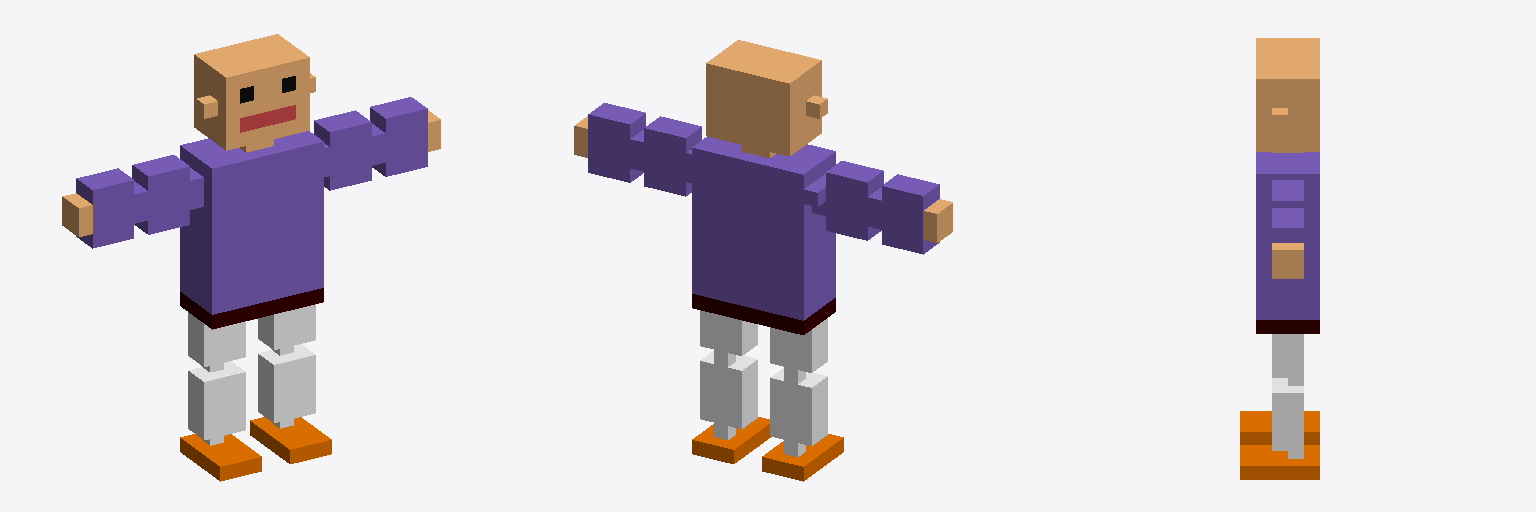
3 renders of one model, left to right at view 1: azimuth 30°, elevation 25°; view 2: azimuth 150°, elevation 25°; view 3: azimuth 270°, elevation 25°, orthographic.
Parts seen in each view (by area): view 1: character3; view 2: character3; view 3: character3.
Part boxes in pixels (left/top/right/bottom): character3: left=62, top=34, right=440, bottom=481; character3: left=574, top=40, right=952, bottom=481; character3: left=1240, top=38, right=1319, bottom=479.
Size of the model in its own units: 26 by 27 by 5.
Materials: 1 (1 with a texture image).